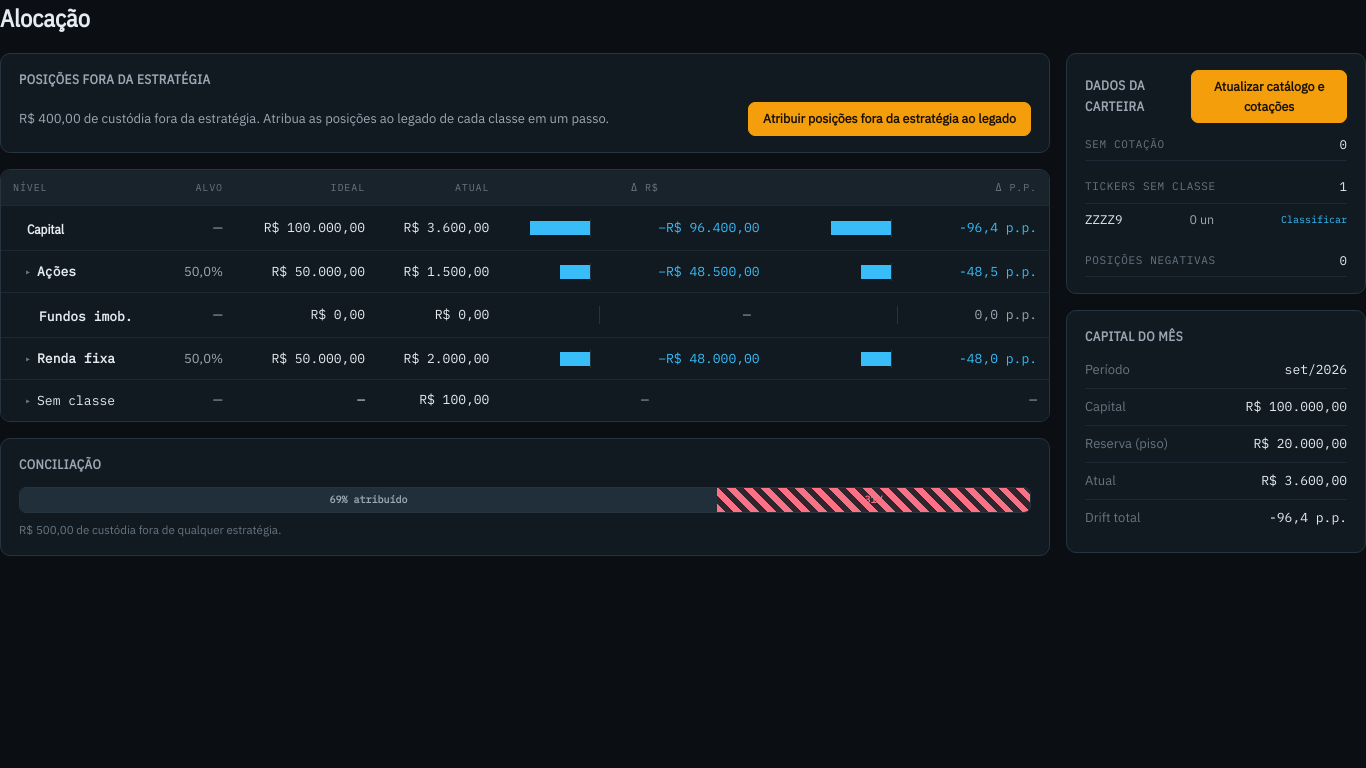
Test: the manual transfer from the bucket › offers only report-driven Strategies whose active edition weighs the ticker, with the shortfall as default
Expected: the text "Ações" is shown, [37,262,76,282]
What coordinates should you click on to do the following:
click the button "▸" in the row of "R$ 1.500,00"
I would click on:
 (28, 272)
Its box is [25,264,31,280].
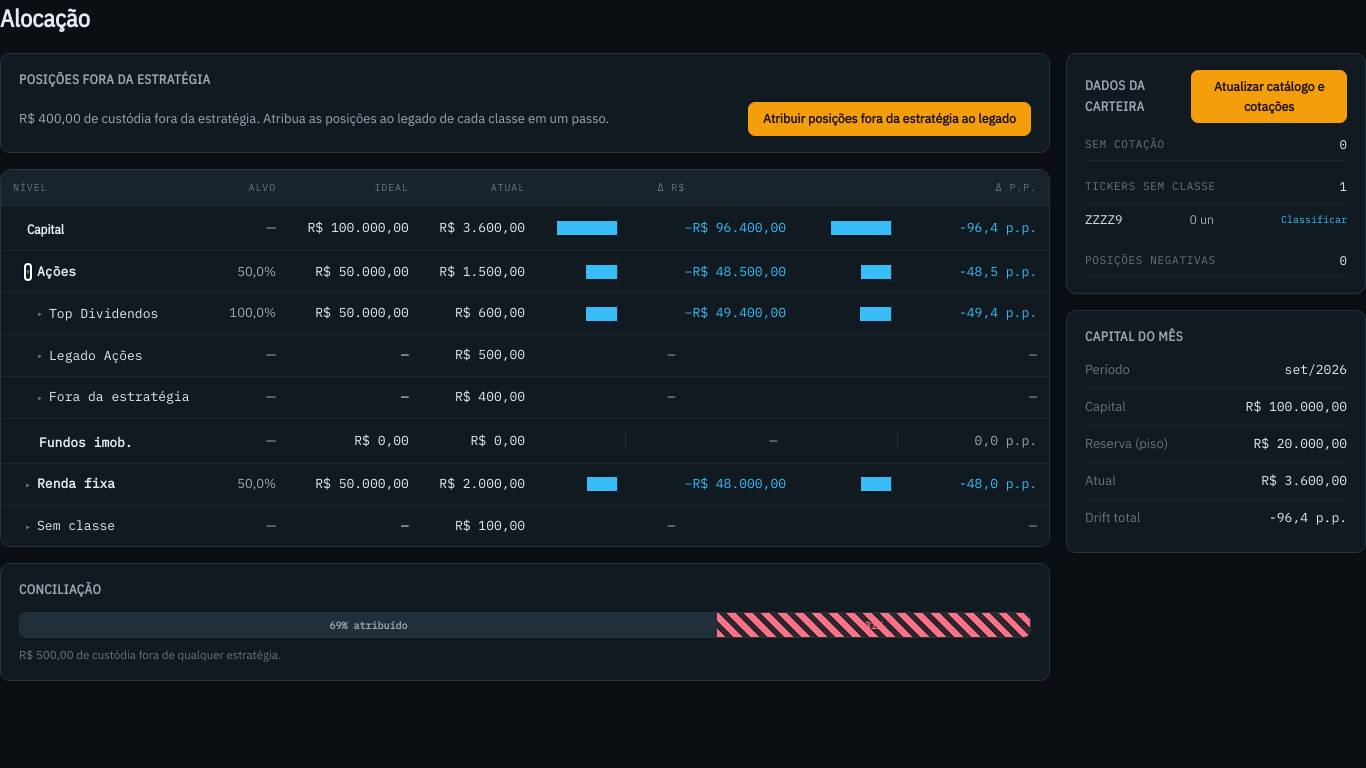
What coordinates should you click on to do the following:
click the button "▸" next to "Legado Ações"
I would click on:
 (40, 356)
Its box is [37,348,43,363].
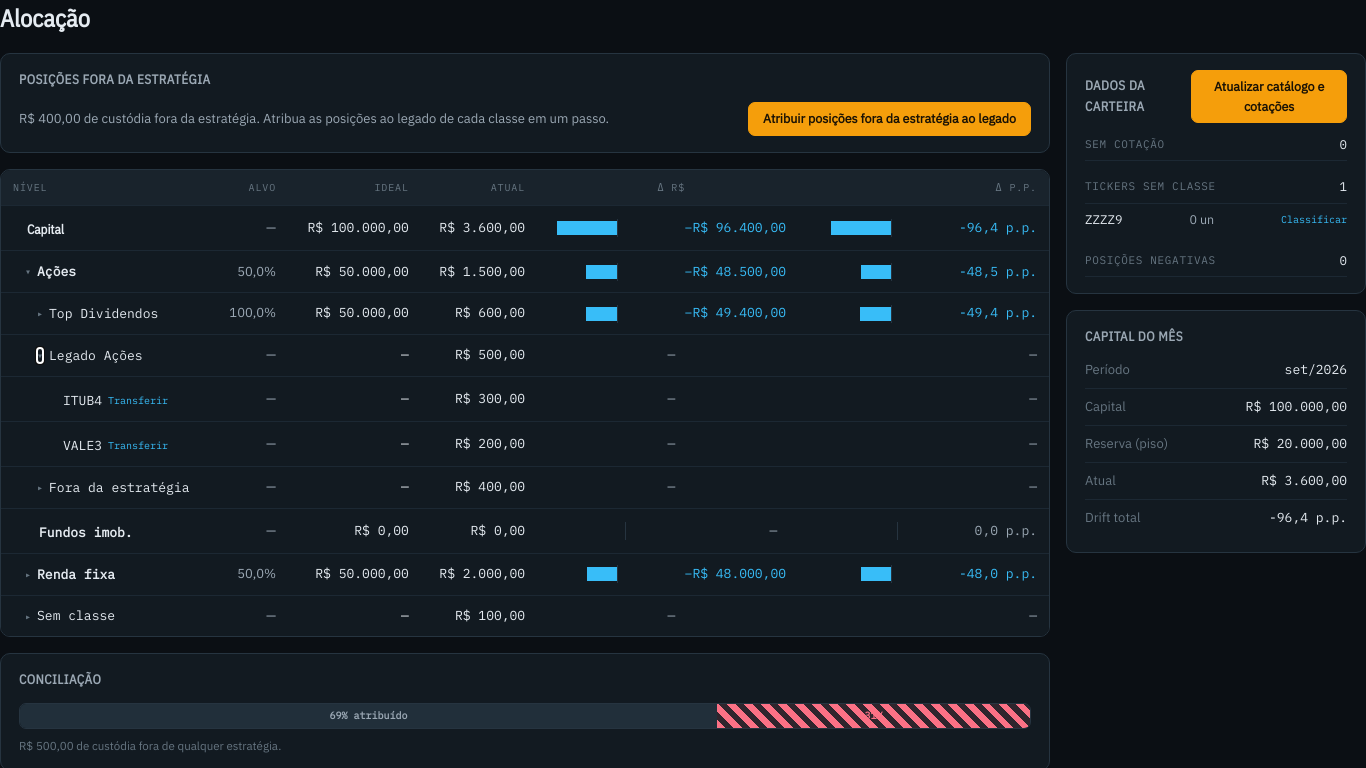
What coordinates should you click on to do the following:
click the button with aria-label "Transferir ITUB4"
I would click on:
 (138, 401)
Its box is [108,393,168,408].
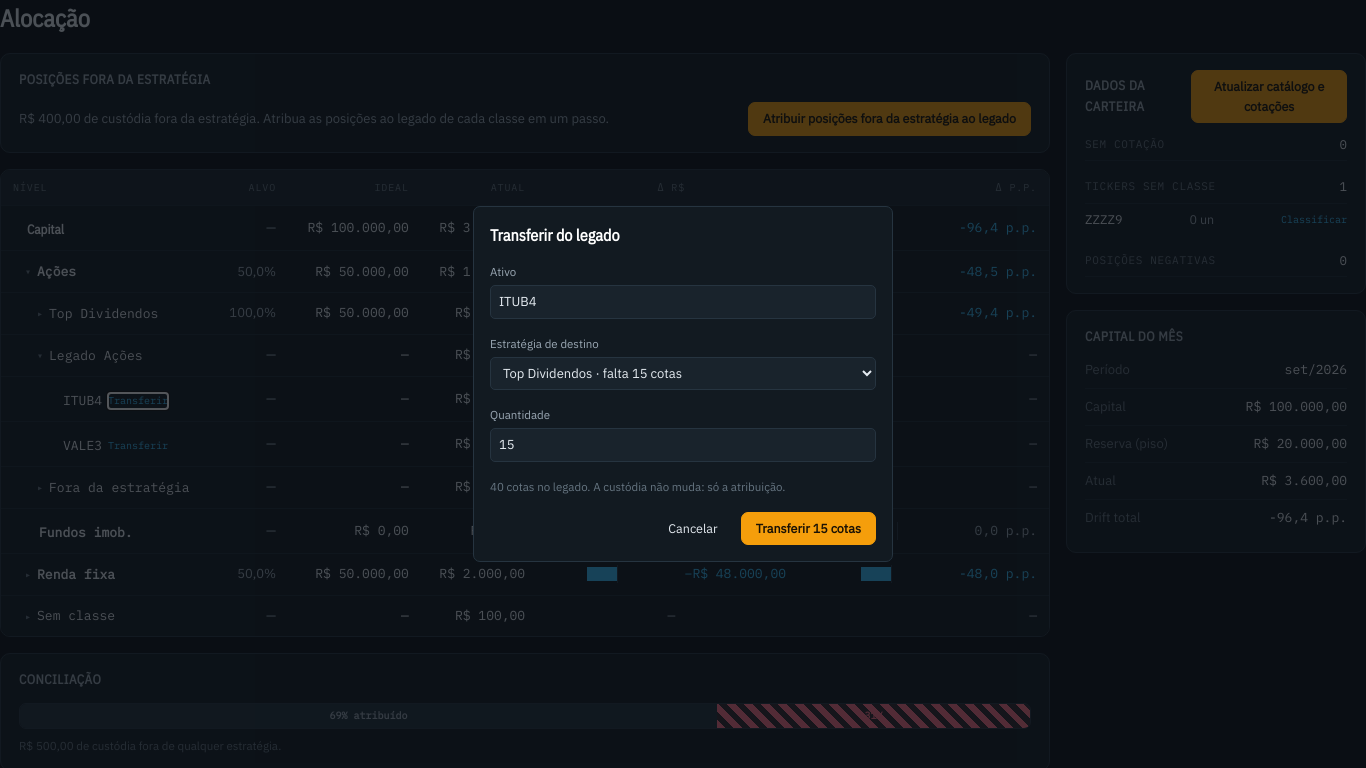
Now the dialog "Transferir do legado" is shown
Now the number field labelled "Quantidade" holds "15", box [490,428,876,462]
Now the text "40 cotas no legado. A custódia não muda: só a atribuição." is shown, box [490,479,786,494]
